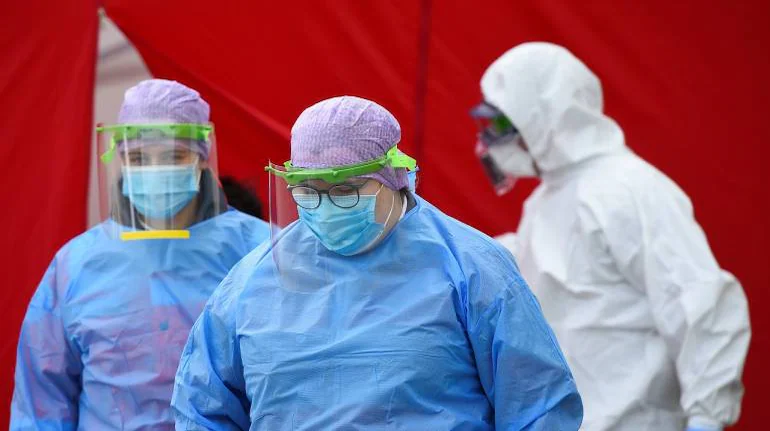Coverall: (502, 47, 753, 431), (227, 221, 523, 431), (31, 212, 265, 431)
with_mask: (296, 178, 380, 251), (118, 150, 196, 219)
